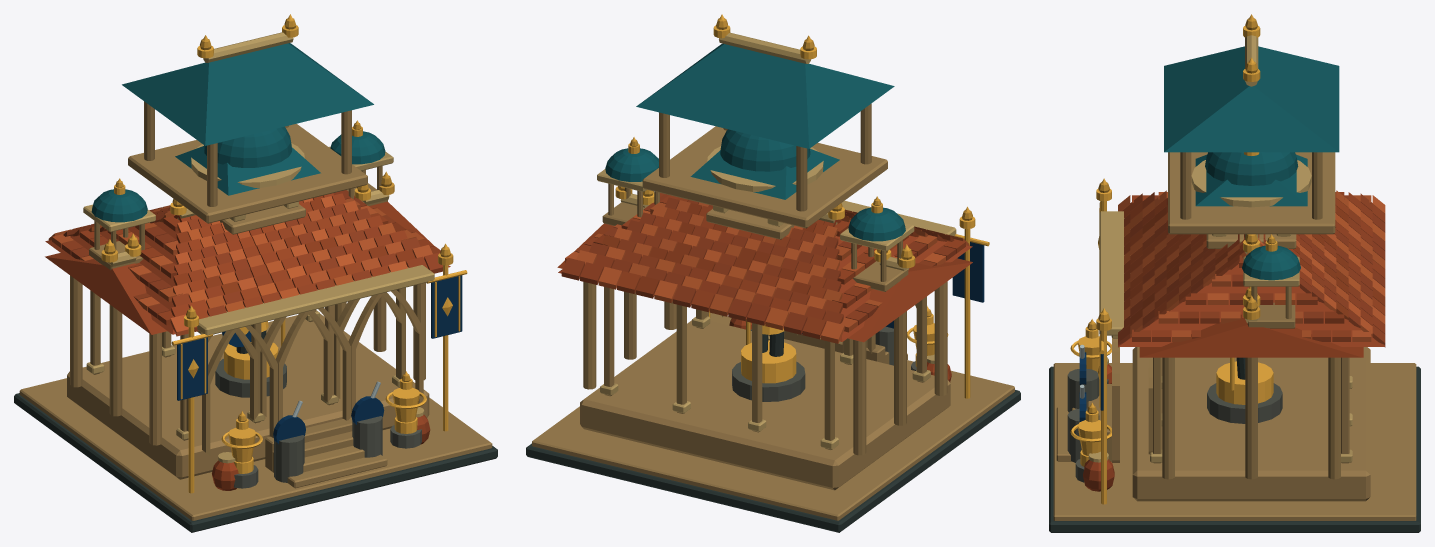
The picture shows the model from 3 angles, left to right: view 1: azimuth 30°, elevation 25°; view 2: azimuth 150°, elevation 25°; view 3: azimuth 270°, elevation 25°; orthographic projection. The views are drawn at different scales.
Parts seen in each view (by area): view 1: hero_hall_level8_structure, hero_hall_level8_metal; view 2: hero_hall_level8_structure, hero_hall_level8_metal; view 3: hero_hall_level8_structure, hero_hall_level8_metal.
Boxes of the visible parts, x1,y1,x2,y2 form: hero_hall_level8_structure: [14, 18, 497, 532]; hero_hall_level8_metal: [101, 14, 467, 493]; hero_hall_level8_structure: [526, 18, 1020, 532]; hero_hall_level8_metal: [615, 14, 989, 398]; hero_hall_level8_structure: [1049, 18, 1420, 532]; hero_hall_level8_metal: [1070, 14, 1277, 504].
Bounding box in the file's own units: 5.6 × 6.97 × 5.6.
